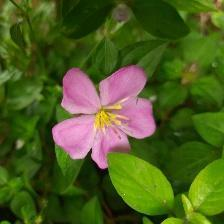malabar melastome: (51, 64, 159, 171)
